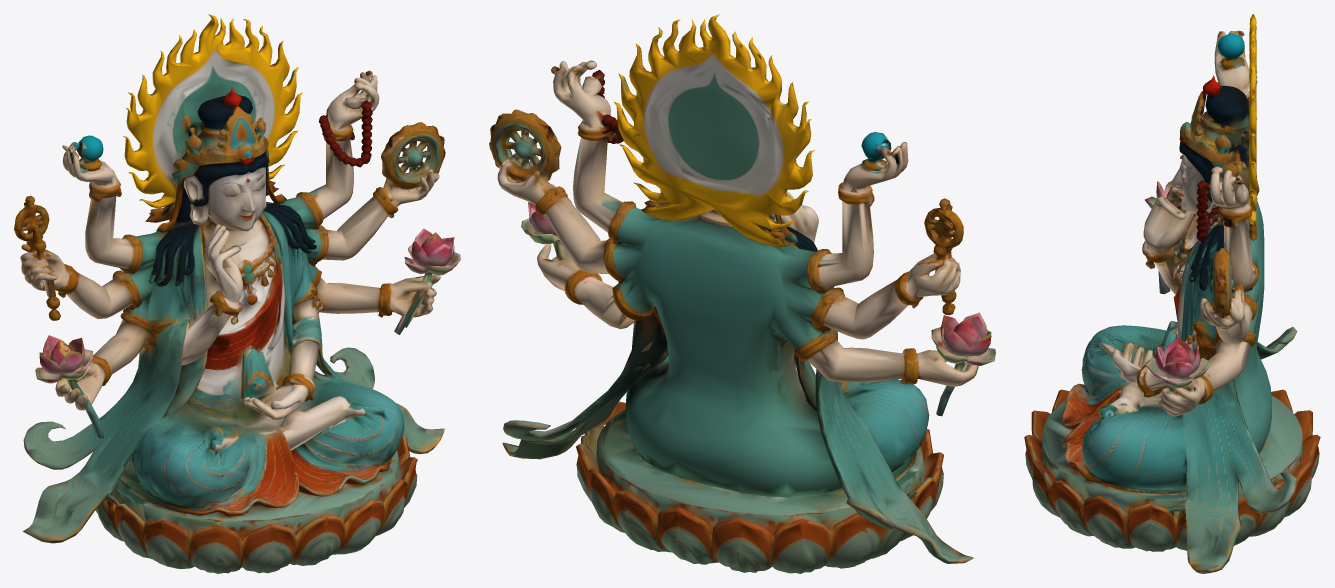
Rendered from ruyi-guanyin.glb.
3 renders of one model, left to right at view 1: azimuth 30°, elevation 25°; view 2: azimuth 150°, elevation 25°; view 3: azimuth 270°, elevation 25°, orthographic. The views are drawn at different scales.
Parts seen in each view (by area): view 1: convert; view 2: convert; view 3: convert.
Boxes of the visible parts, box(x1,y1,x2,y2) form: convert: box(14, 14, 460, 573); convert: box(489, 14, 995, 573); convert: box(1024, 14, 1320, 573).
Size of the model in its own units: 0.8755 by 0.9439 by 0.5236.
1 material, 1 textured.
